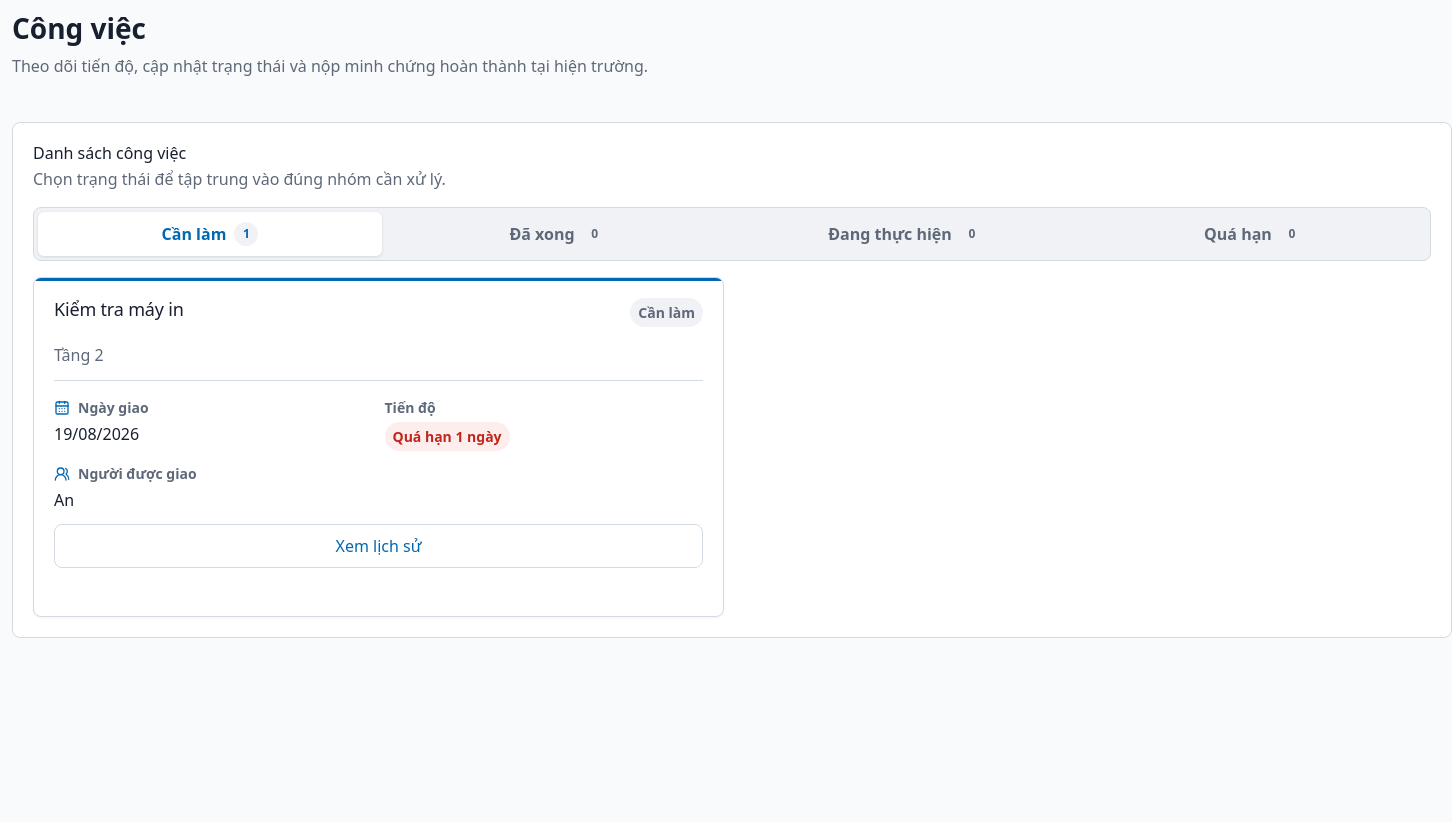
Test: Task grouped list › loads scoped detail history only after the user asks for it
Click the button "Xem lịch sử" at (378, 546), box [54,524,703,568]
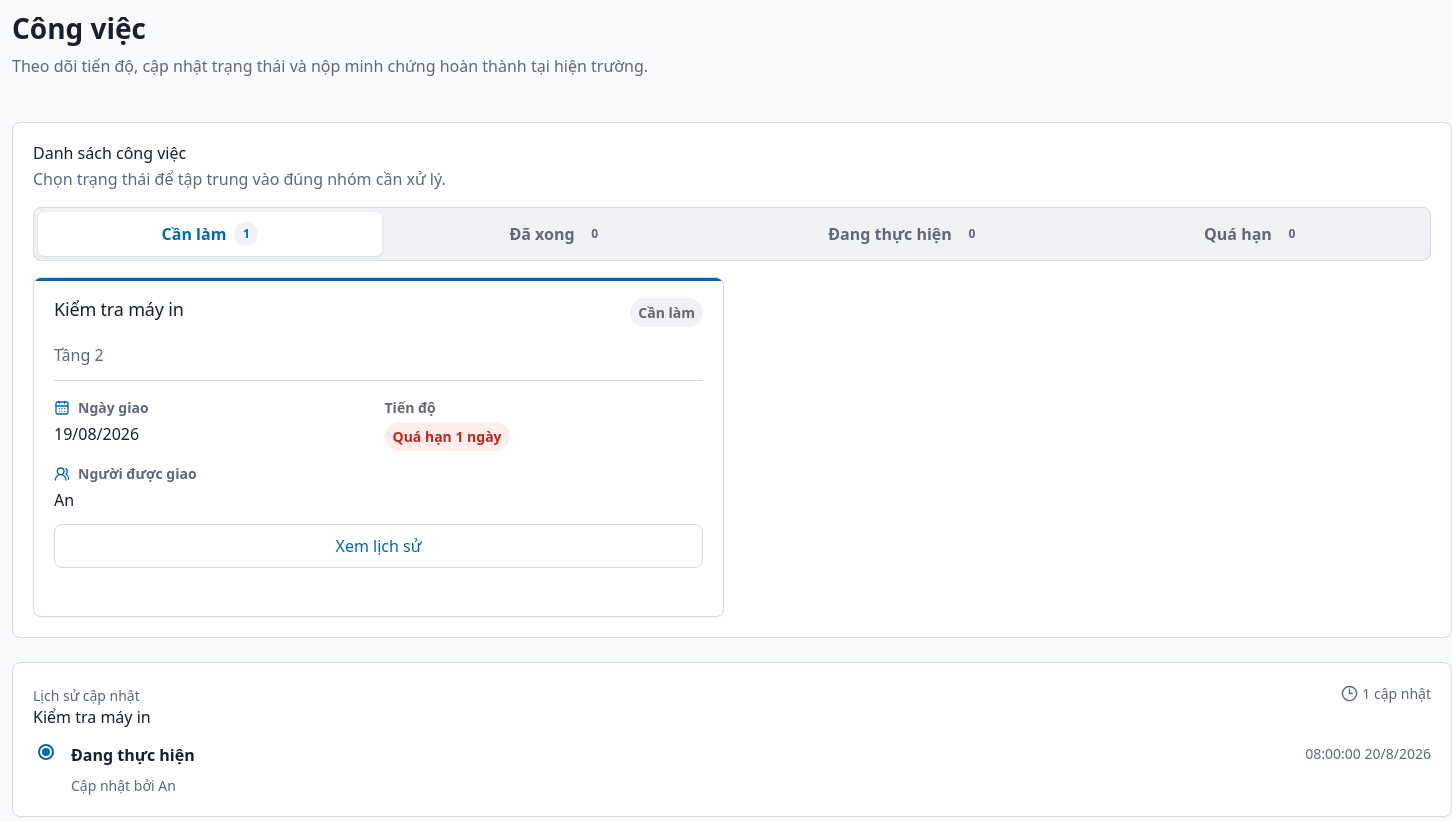
Result: the element "Lịch sử" shows "Đang thực hiện" at [71,744,195,766]
Result: the element "Lịch sử" shows "an" at [158,776,176,795]
